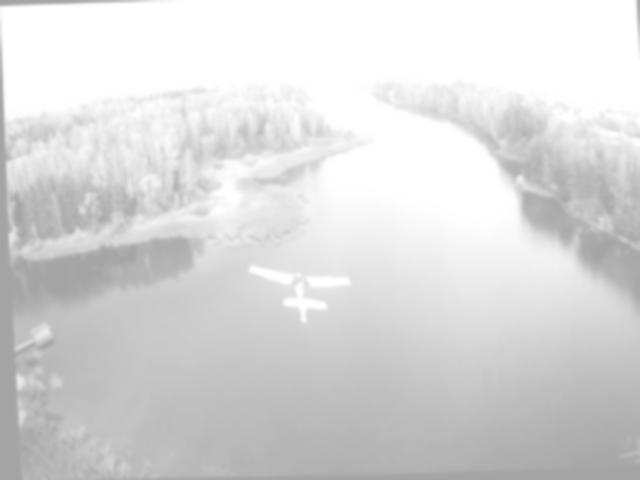hedef: (246, 263, 346, 321)
